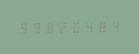eight: (43, 20, 55, 34), (95, 19, 107, 33)
four: (82, 19, 94, 33), (108, 19, 120, 33)
nine: (17, 20, 29, 34), (30, 20, 42, 34)
two: (56, 20, 68, 34)
zero: (69, 20, 81, 33)
